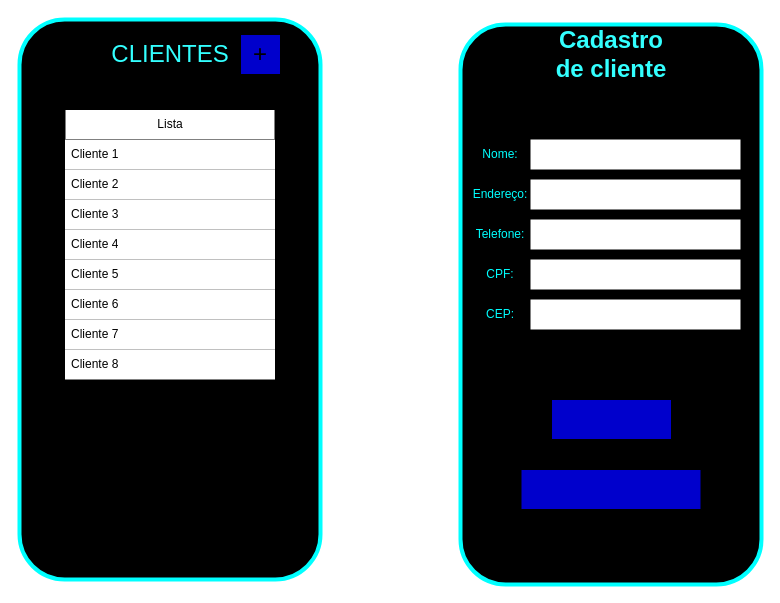
Image size: 780x603. Some labels were removed from this diagram. Here are the shapes that lost their labels. From the top down, the centre of each, then its label:
point 611,419: SALVAR
point 610,489: CANCELAR
